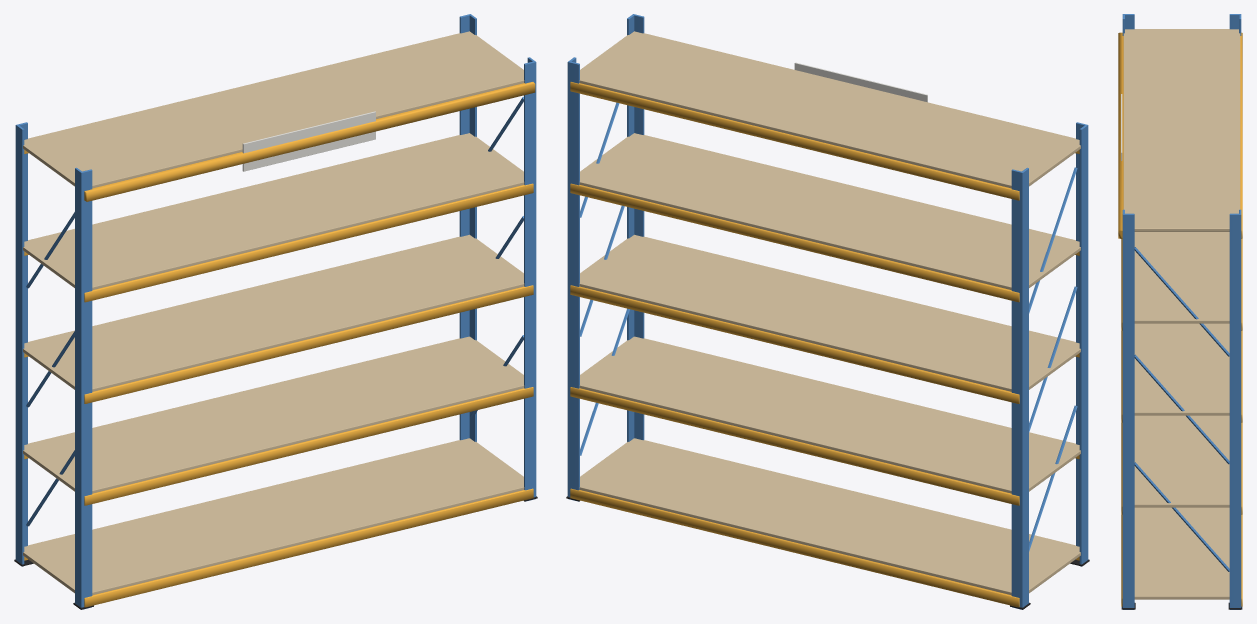
File: industrial.workshop.shelf_racking.glb
The picture shows the model from 3 angles, left to right: view 1: azimuth 30°, elevation 25°; view 2: azimuth 150°, elevation 25°; view 3: azimuth 270°, elevation 25°; orthographic projection. The views are drawn at different scales.
Parts seen in each view (by area): view 1: main__timber_dca, main__paint_eb4, main__paint_59c, main__paint_eee; view 2: main__timber_dca, main__paint_eb4, main__paint_59c, main__paint_eee; view 3: main__timber_dca, main__paint_59c, main__paint_eb4.
Boxes of the visible parts, x1,y1,x2,y2 form: main__timber_dca: [23, 31, 524, 595]; main__paint_eb4: [24, 82, 535, 607]; main__paint_59c: [15, 14, 536, 609]; main__paint_eee: [242, 111, 375, 171]; main__timber_dca: [579, 31, 1080, 595]; main__paint_eb4: [570, 82, 1079, 607]; main__paint_59c: [567, 14, 1088, 609]; main__paint_eee: [794, 62, 927, 102]; main__timber_dca: [1123, 29, 1240, 599]; main__paint_59c: [1122, 14, 1241, 609]; main__paint_eb4: [1118, 32, 1242, 606].
Size of the model in its own units: 2.41 by 2.2 by 0.628.
